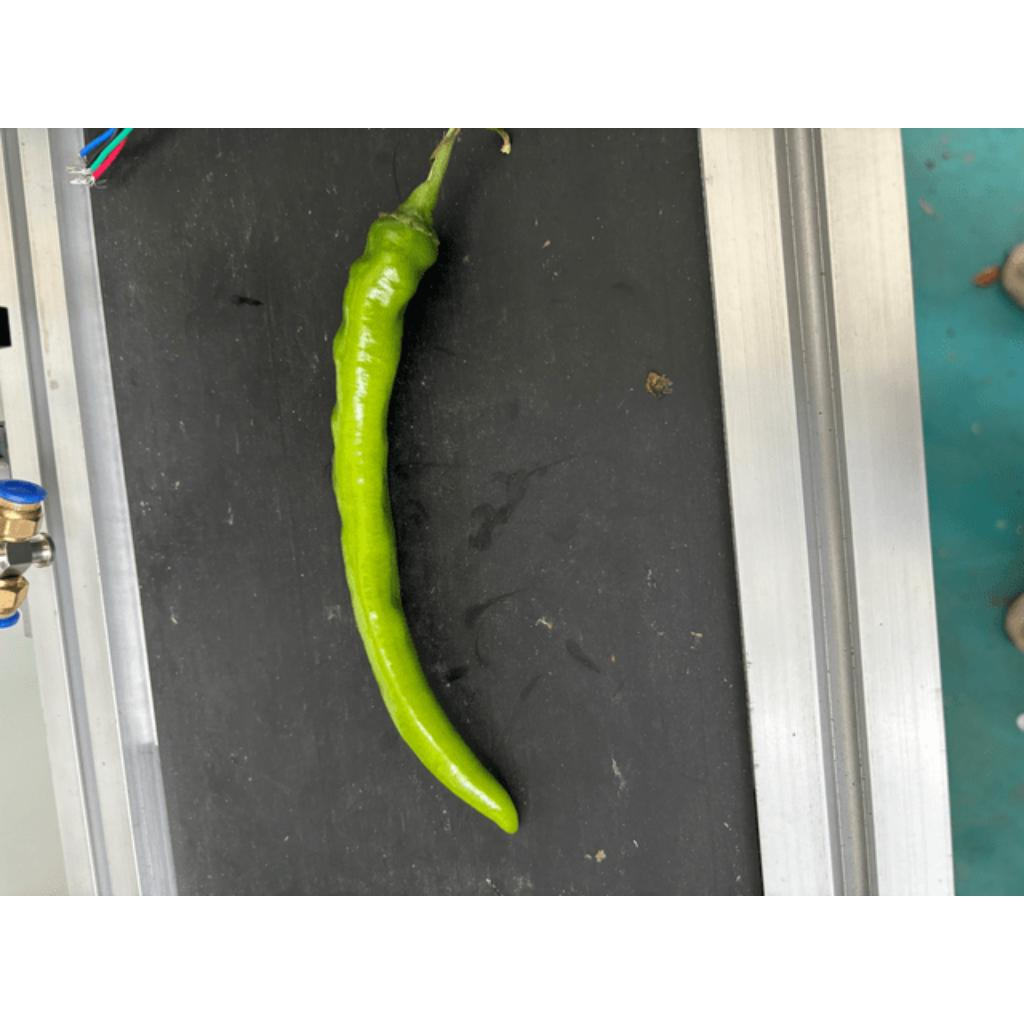chili: (331, 201, 521, 841)
